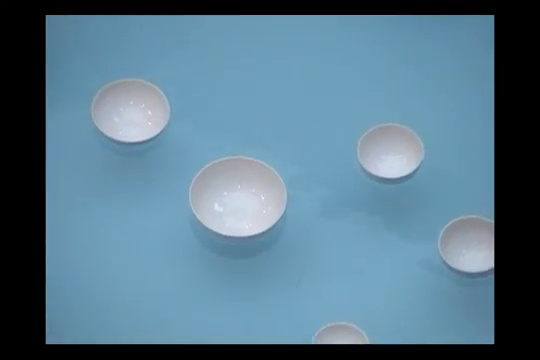bowl: (189, 155, 286, 243), (89, 78, 171, 147), (357, 122, 424, 187), (438, 215, 494, 278), (312, 321, 367, 345)
